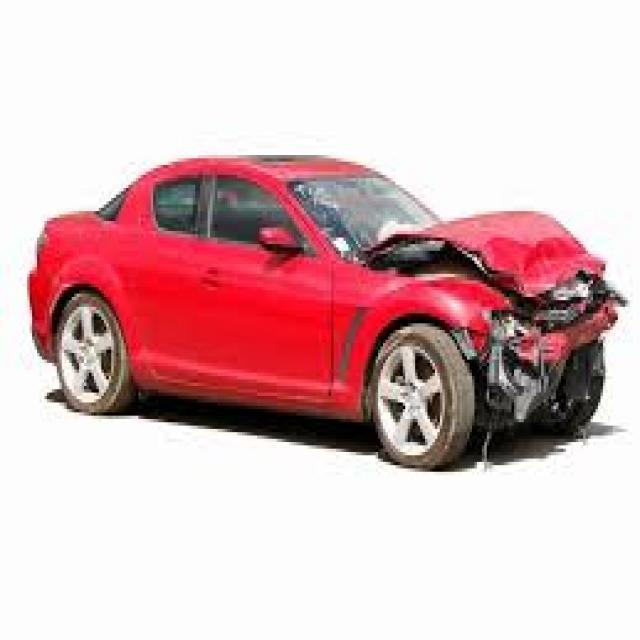damaged-windscreen: (288, 172, 434, 249)
